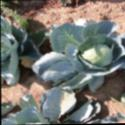cabbage: (77, 40, 107, 68), (1, 32, 9, 65)
